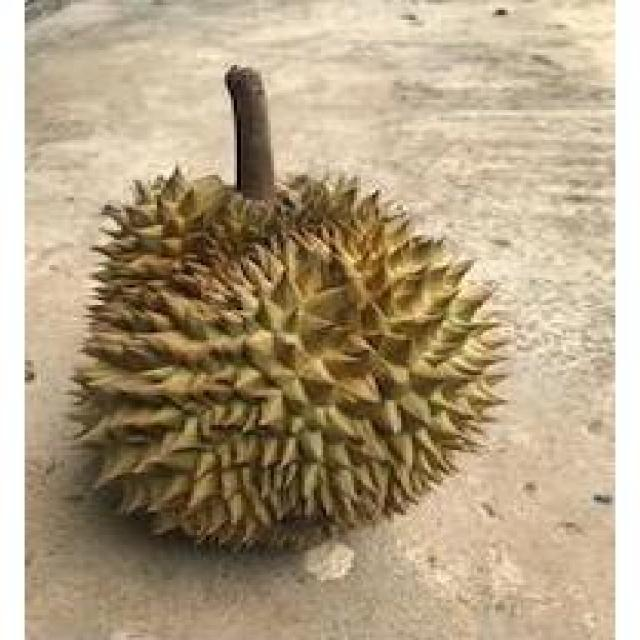fruit: (62, 210, 440, 592)
